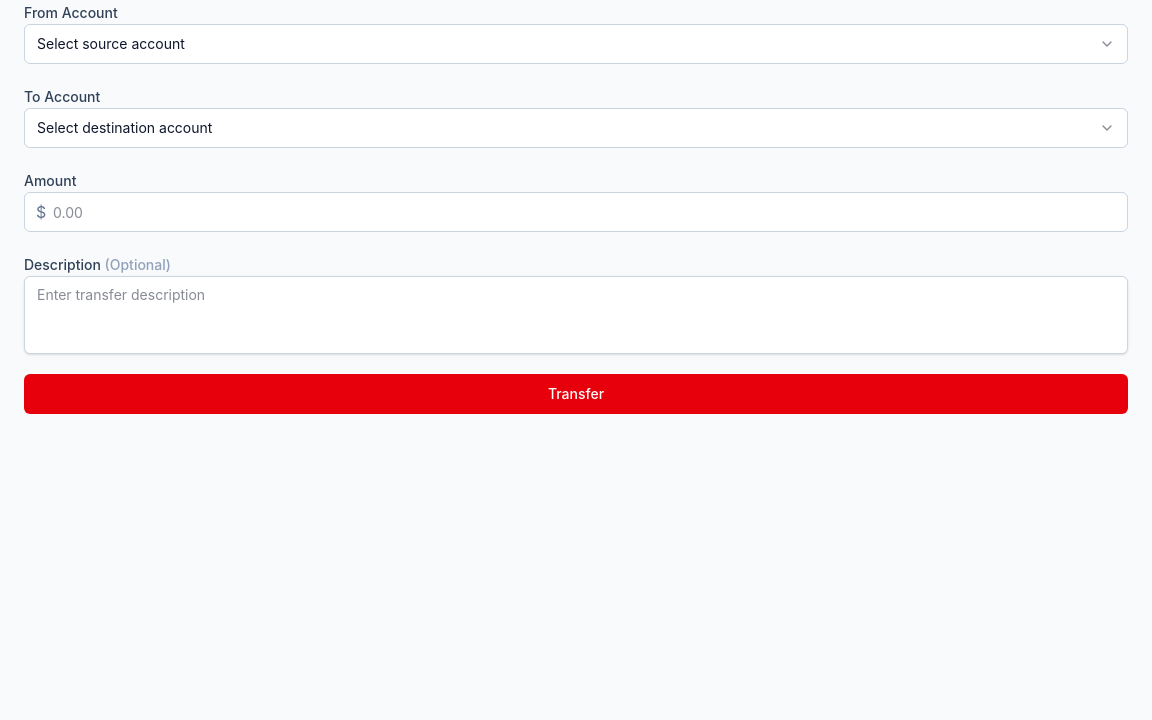
Test: TransferForm › Form Submission - Success › should show success message after successful transfer
The width and height of the screenshot is (1152, 720).
Fill and submit form
Click the dropdown named "from account": click(111, 44) [24,24,1128,64]
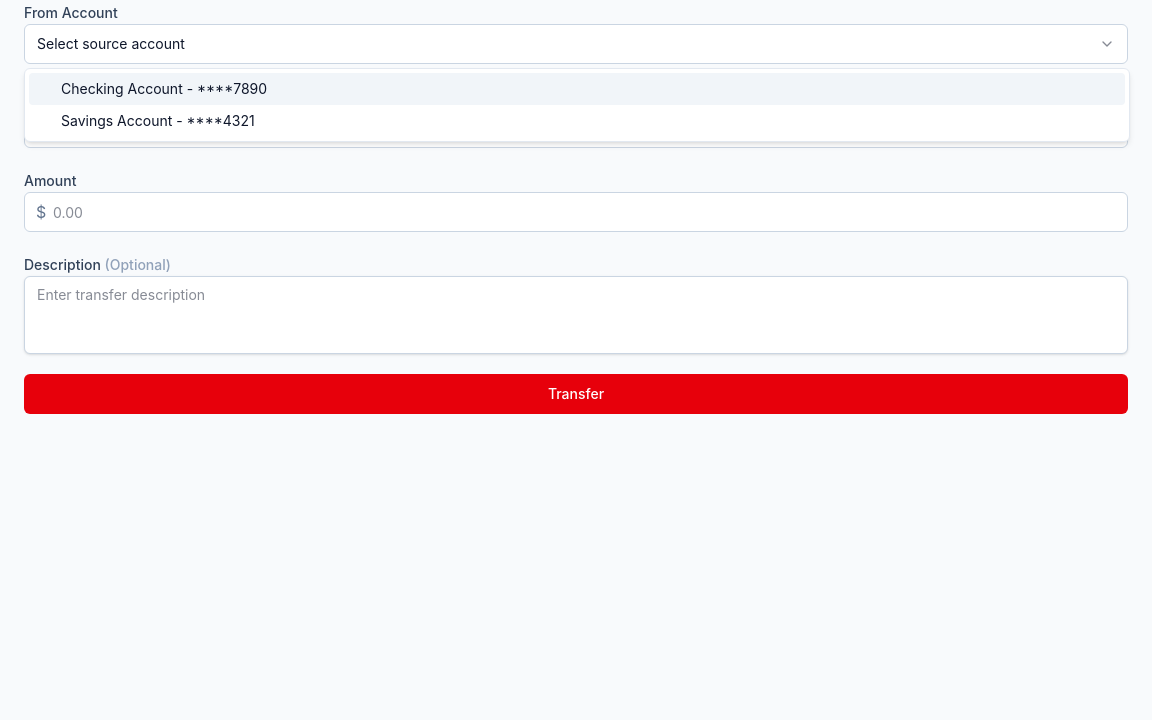
Click the option "Checking Account - ****7890": click(122, 88) [29,73,1125,105]
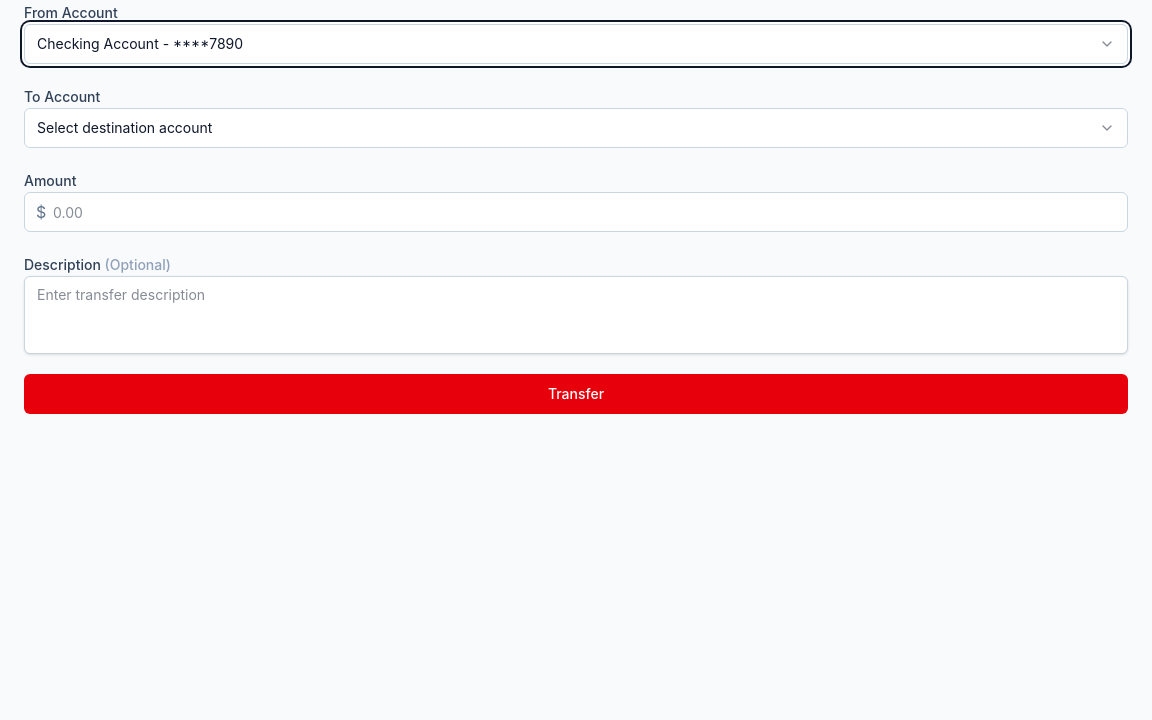
Click the dropdown named "to account": click(125, 128) [24,108,1128,148]
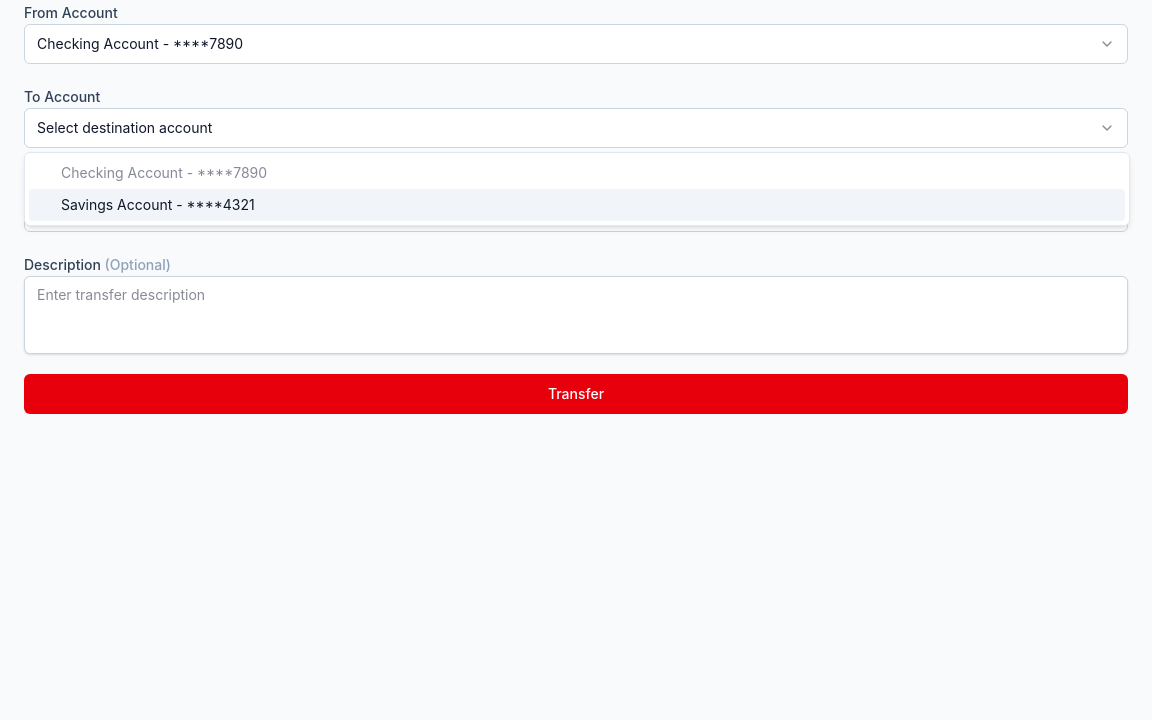
Click the option "Savings Account - ****4321": click(117, 204) [29,189,1125,221]
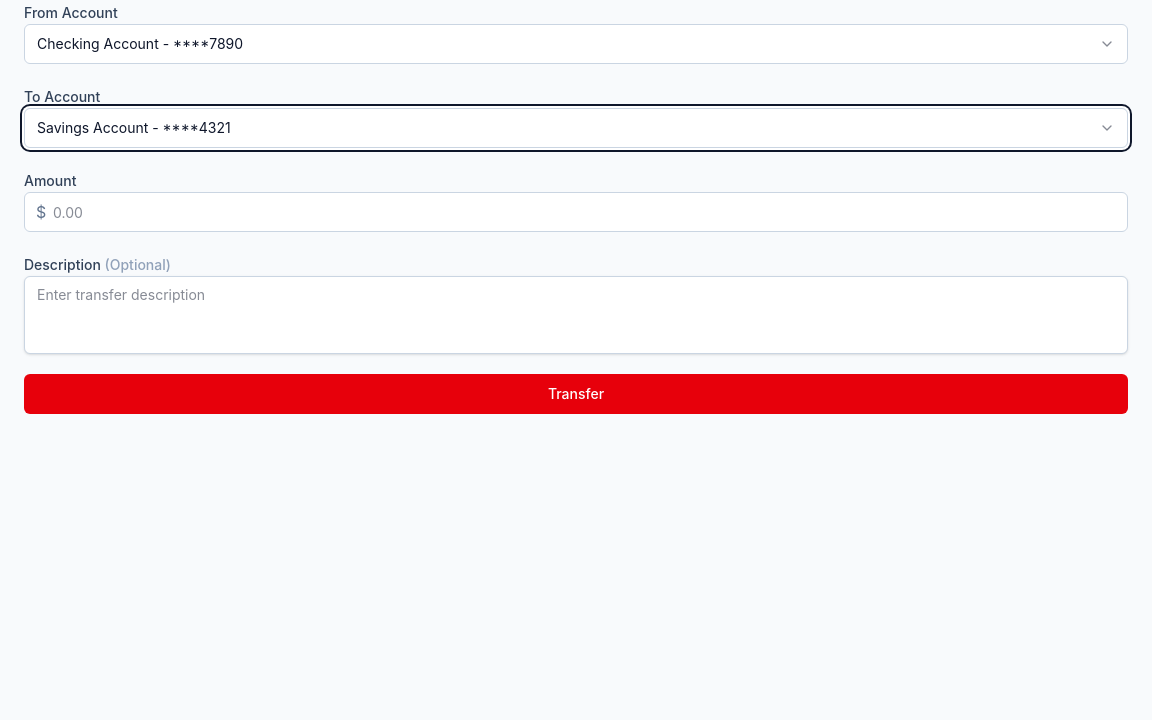
In the field labelled "Amount": (576, 212) [24,192,1128,232], type "100"
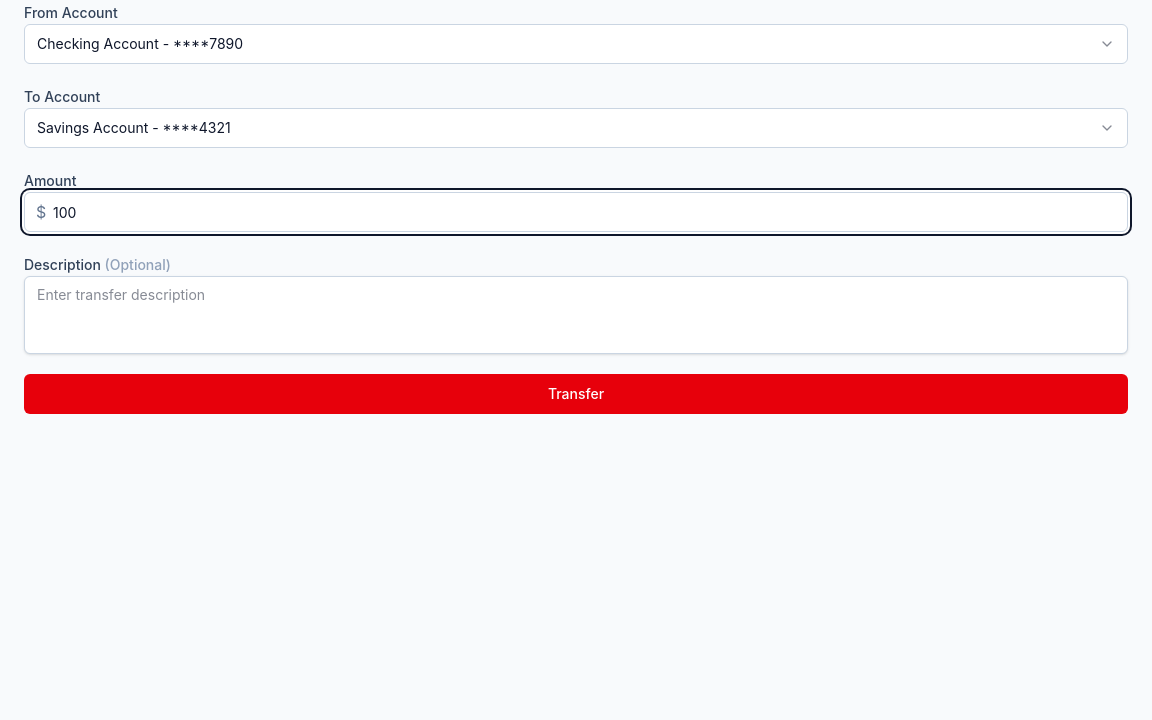
Click the button "Transfer": click(576, 394) [24,374,1128,414]
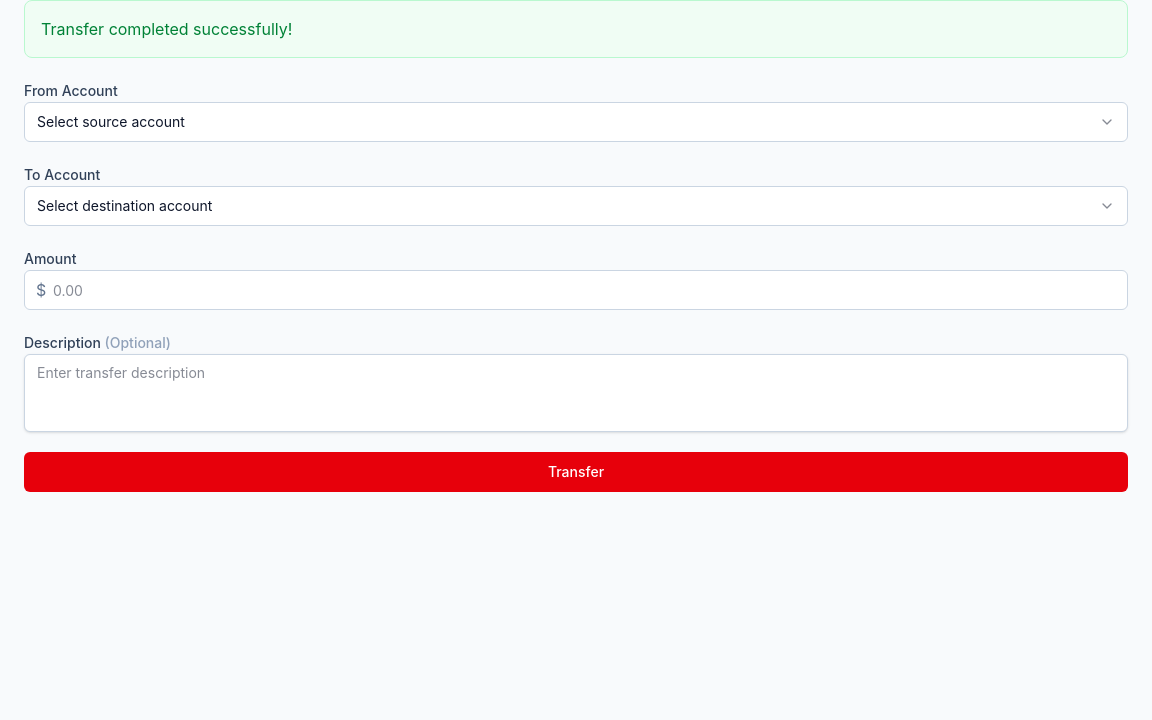
Check: the text "Transfer completed successfully!" is shown, box [41,19,292,39]
